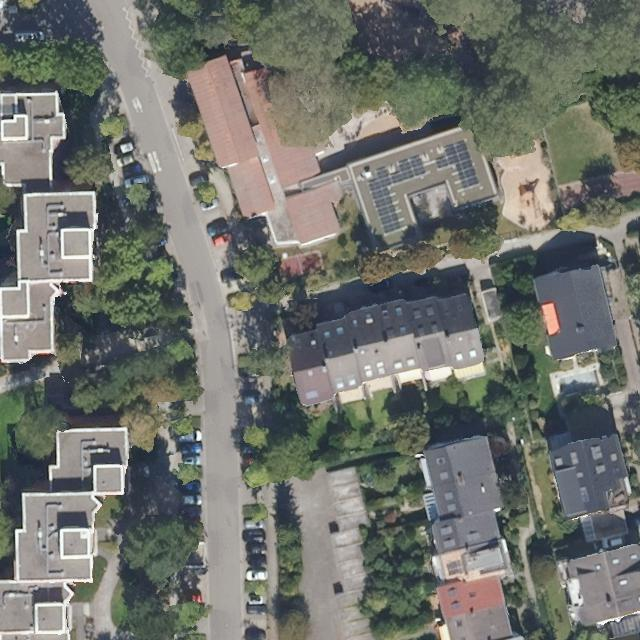PV: (366, 152, 428, 235), (435, 140, 481, 190)
